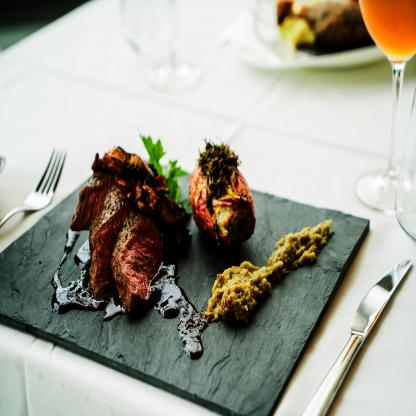Carne: (112, 206, 164, 321), (92, 185, 132, 302), (67, 159, 128, 231)
